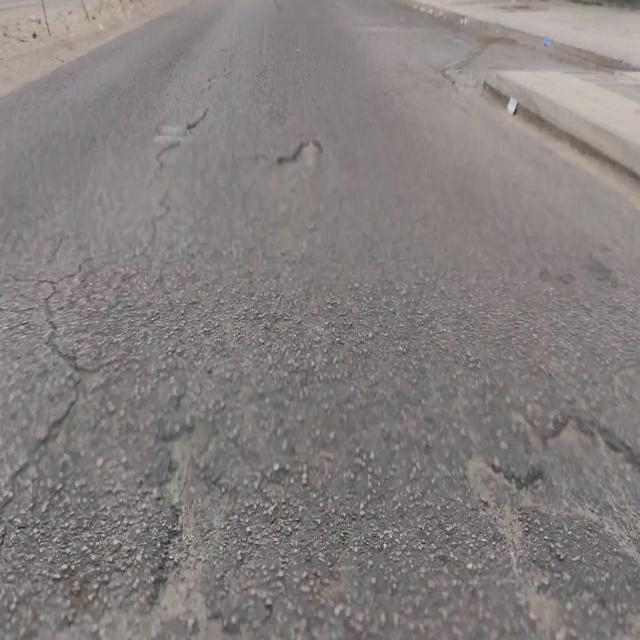Pothole: (277, 137, 324, 168)
